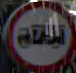Heavy Vehicles: (5, 0, 73, 72)
